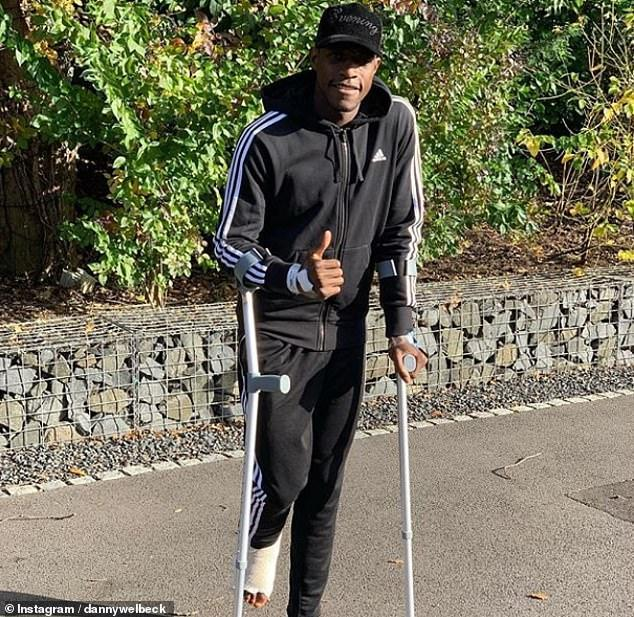crutches: (212, 3, 425, 617)
